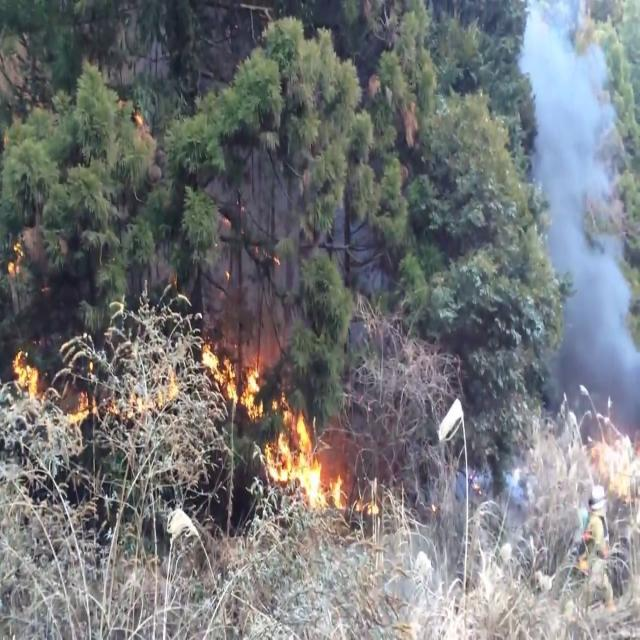Fire: (264, 394, 348, 514), (200, 338, 264, 421), (108, 364, 178, 422), (11, 349, 39, 398), (66, 388, 100, 426), (7, 242, 23, 274), (368, 504, 380, 514)
Smoke: (519, 1, 640, 452), (198, 144, 302, 366), (326, 208, 388, 343), (454, 466, 494, 508)
